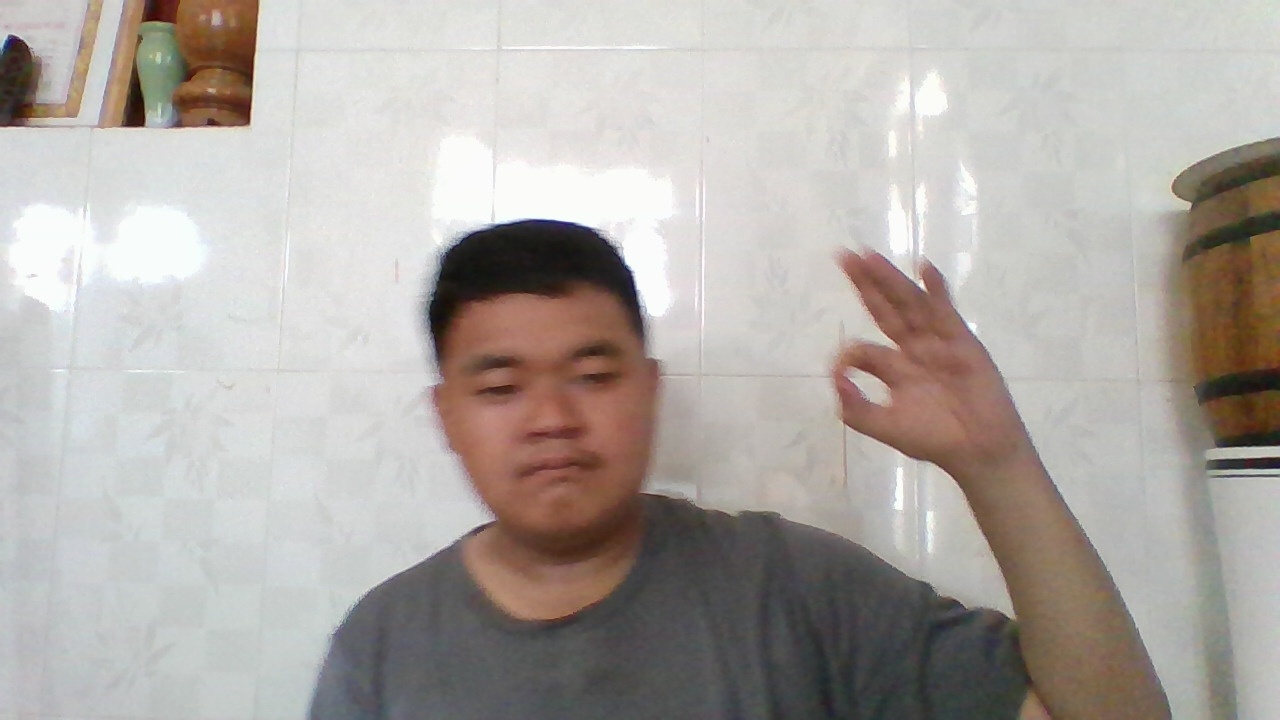T: (818, 242, 997, 475)
